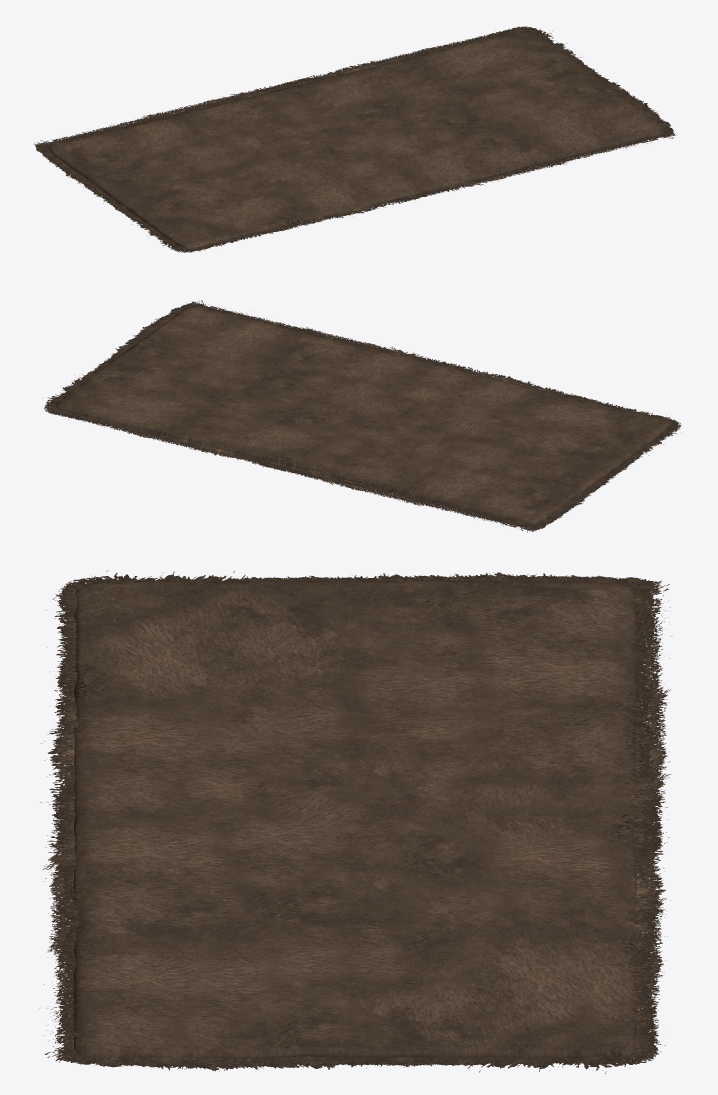
3 renders of one model, top to bottom at view 1: azimuth 30°, elevation 25°; view 2: azimuth 150°, elevation 25°; view 3: azimuth 270°, elevation 25°, orthographic. The views are drawn at different scales.
Parts seen in each view (by area): view 1: Cima, Pelos, Pelos.004, Pelos.001, Pelos.002, Pelos.003; view 2: Cima, Pelos, Pelos.004, Pelos.002, Pelos.001; view 3: Cima, Pelos, Pelos.004, Pelos.001, Pelos.002, Pelos.003.
Part boxes in pixels (x1,y1,x2,y2): Cima: (49,30,664,248); Pelos: (37,27,677,251); Pelos.004: (34,77,310,203); Pelos.001: (392,76,675,201); Pelos.002: (248,26,601,93); Pelos.003: (102,197,391,252); Cima: (55,306,670,523); Pelos: (42,300,682,530); Pelos.004: (258,463,615,532); Pelos.002: (44,357,321,479); Pelos.001: (111,300,468,372); Cima: (73,581,636,1058); Pelos: (39,570,672,1073); Pelos.004: (341,574,670,854); Pelos.001: (46,787,382,1068); Pelos.002: (347,790,667,1068); Pelos.003: (53,575,370,850).
Size of the model in its own units: 109 by 0.9963 by 58.94.
2 materials, 2 textured.
